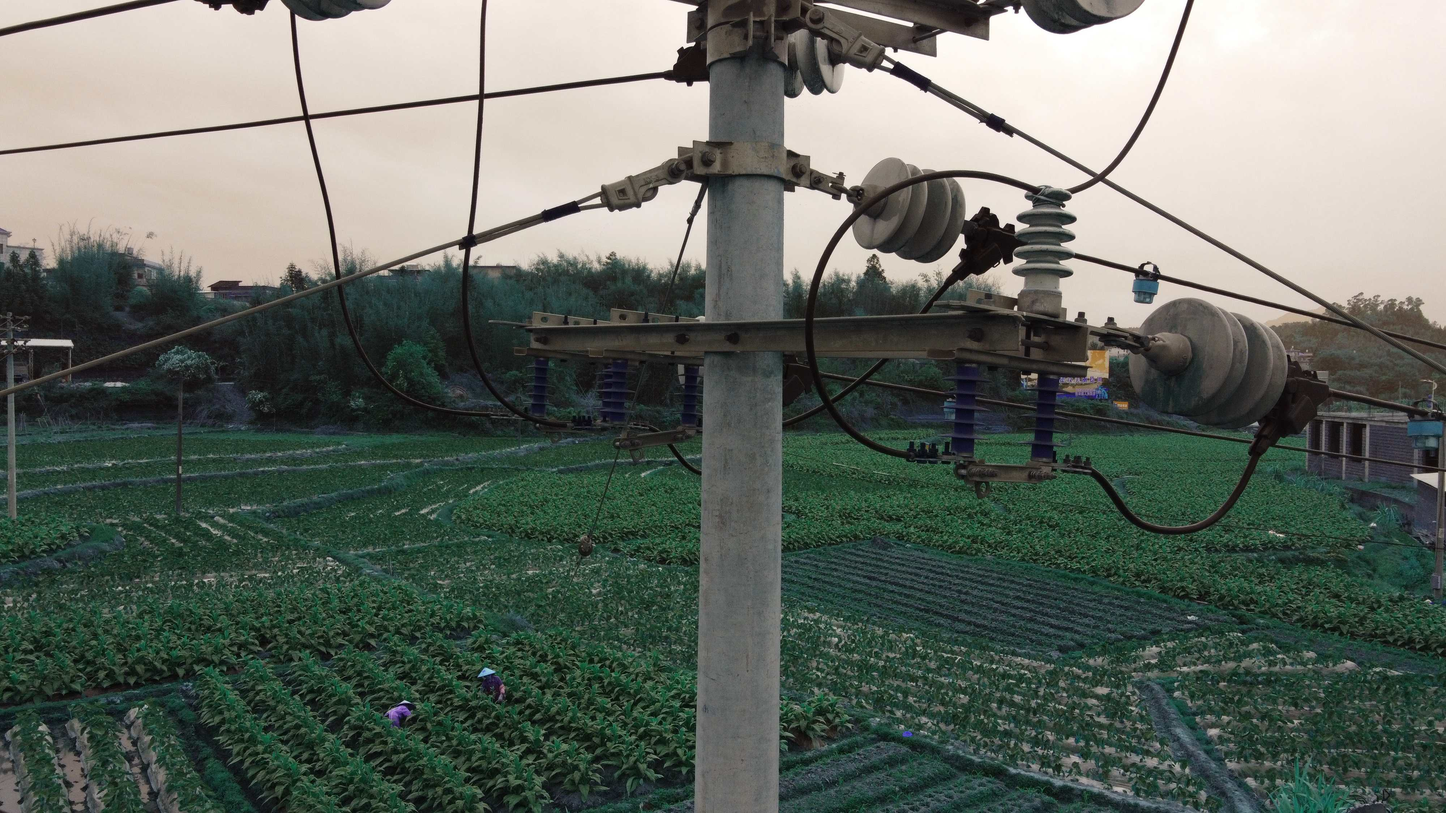severe_soiling_no_discharge_whole: (1124, 296, 1292, 427), (1003, 184, 1081, 317), (782, 33, 844, 96)
